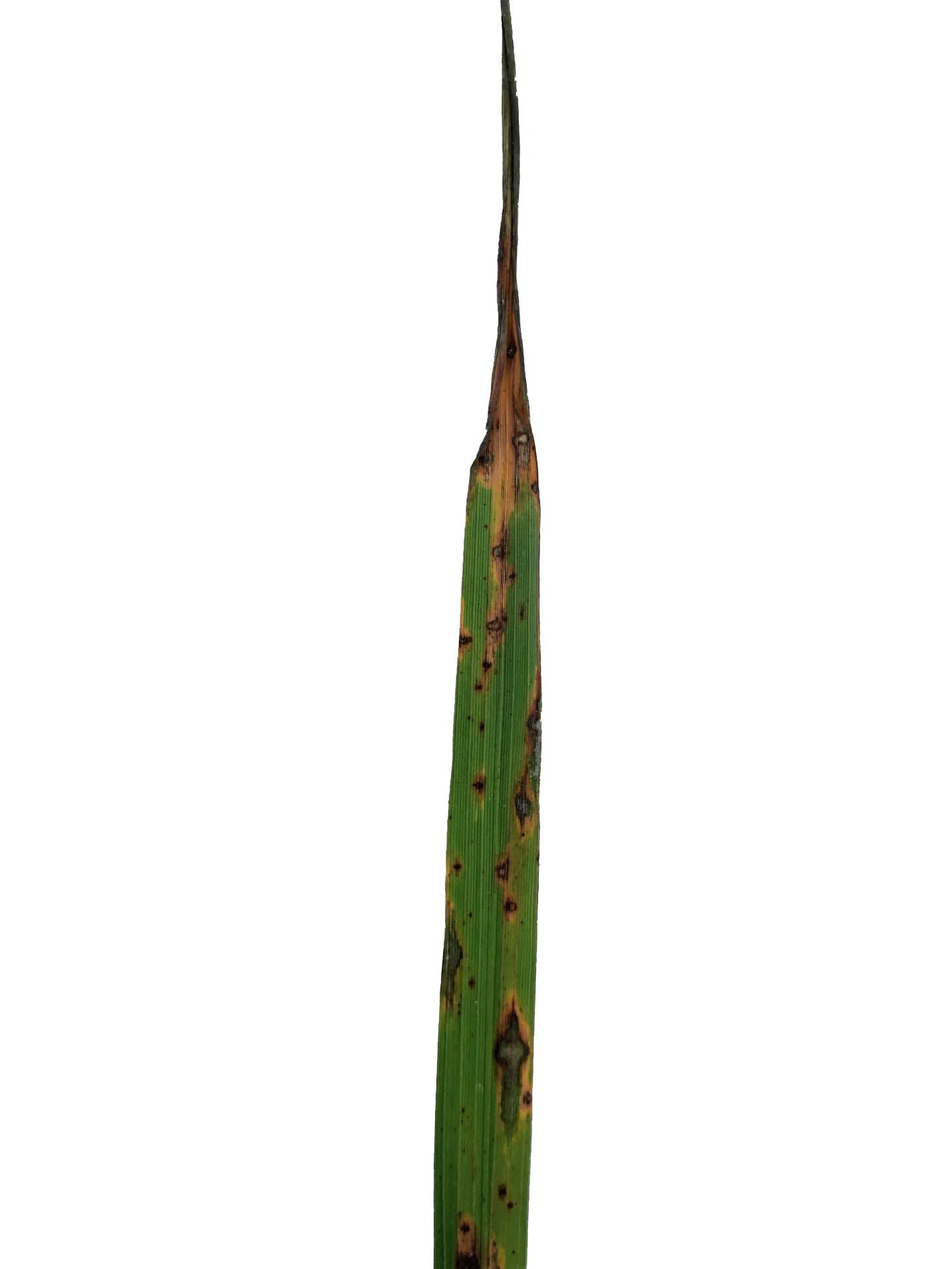Rice blast: (468, 203, 528, 543), (486, 981, 531, 1145), (448, 1184, 506, 1269), (442, 898, 473, 1002), (490, 854, 524, 919), (513, 767, 537, 848), (524, 676, 542, 765)
